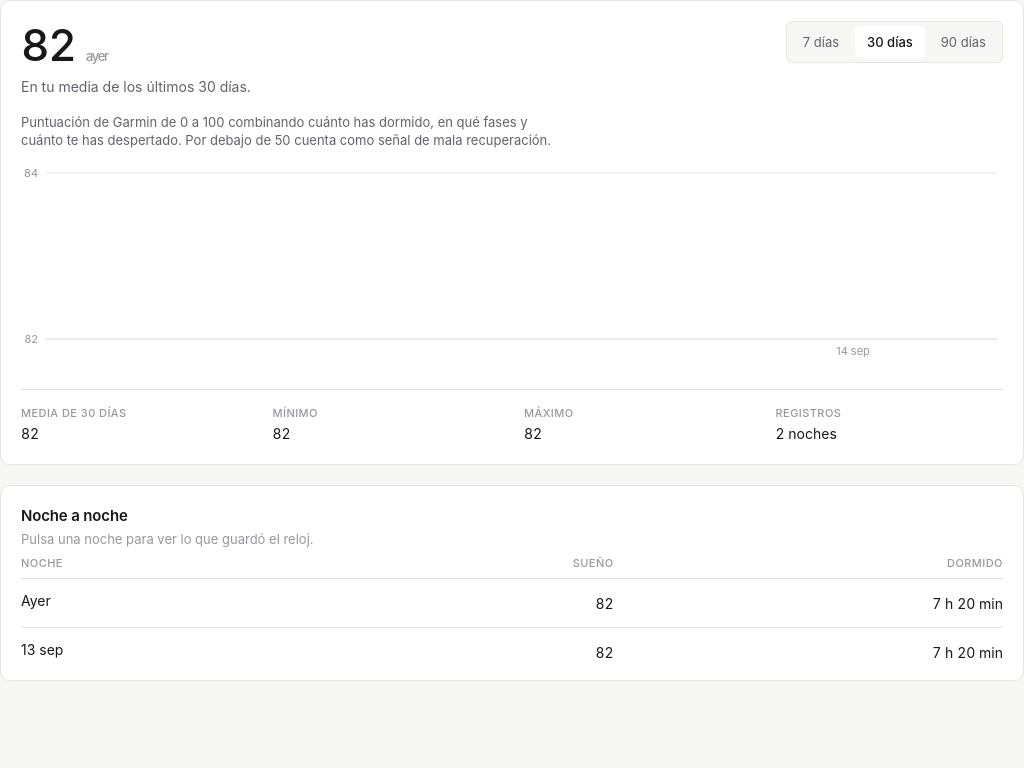
it: MetricaDetalle › al pulsar una noche despliega sus fases justo debajo, y al volver a pulsarla las cierra
Click the button named "ver el detalle de la noche del 14 sep": (36, 601) [21, 591, 51, 611]
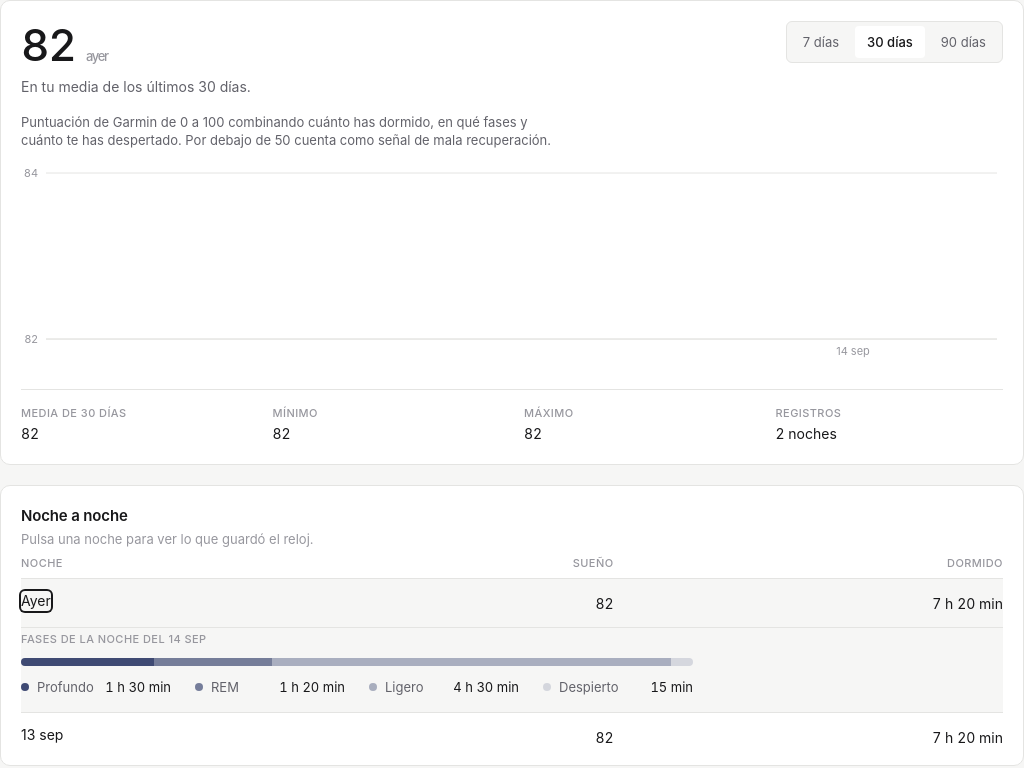
Result: the button named "ver el detalle de la noche del 14 sep" is expanded
Result: the text "Profundo" is shown at [37, 678, 94, 696]
Result: the text "1 h 30 min" is shown at [105, 678, 171, 696]
Click the button named "ver el detalle de la noche del 14 sep": (36, 601) [21, 591, 51, 611]
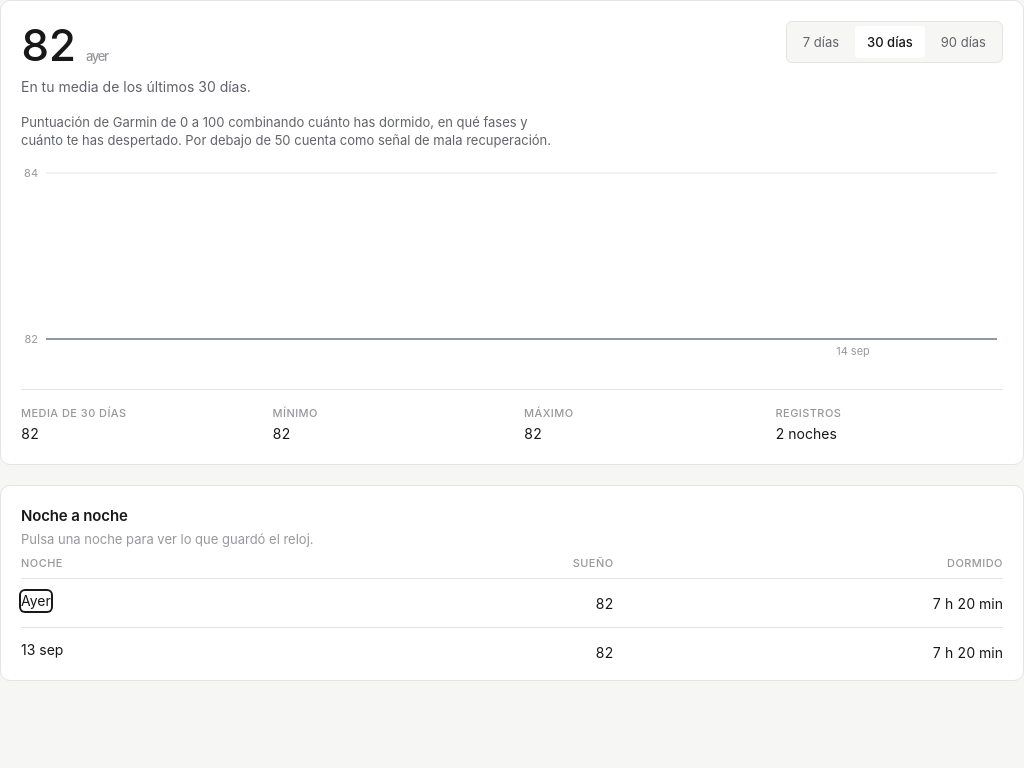
Result: the text "Profundo" is gone
